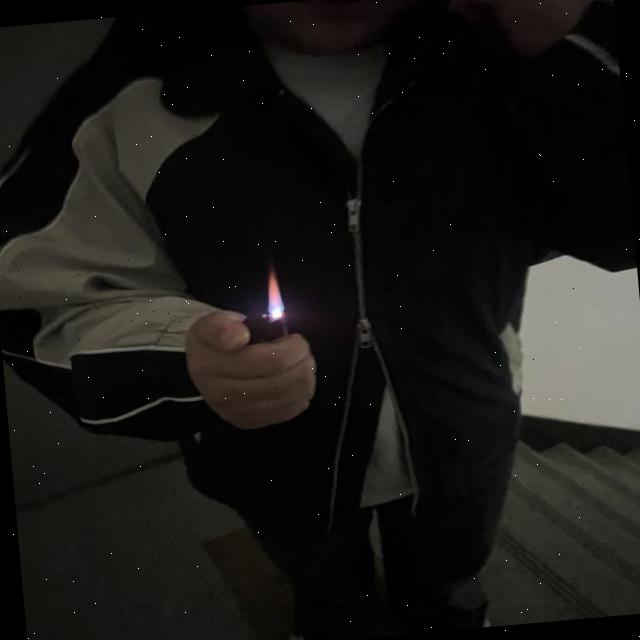fire: (260, 266, 286, 320)
